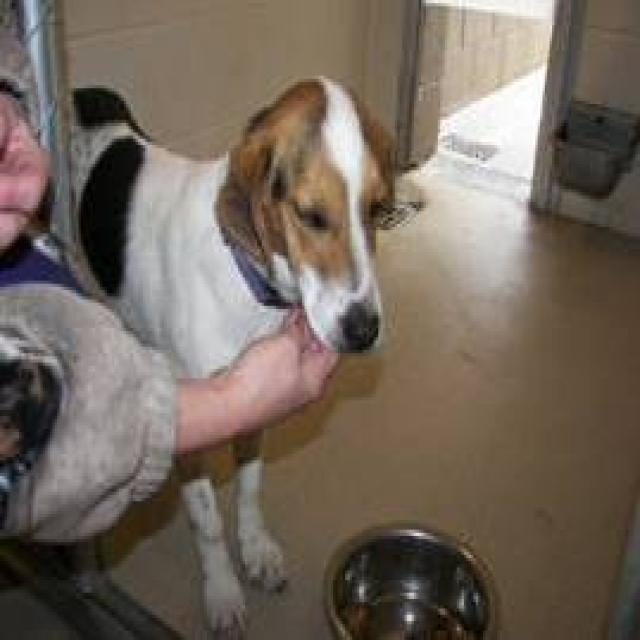dog: (65, 72, 398, 637)
